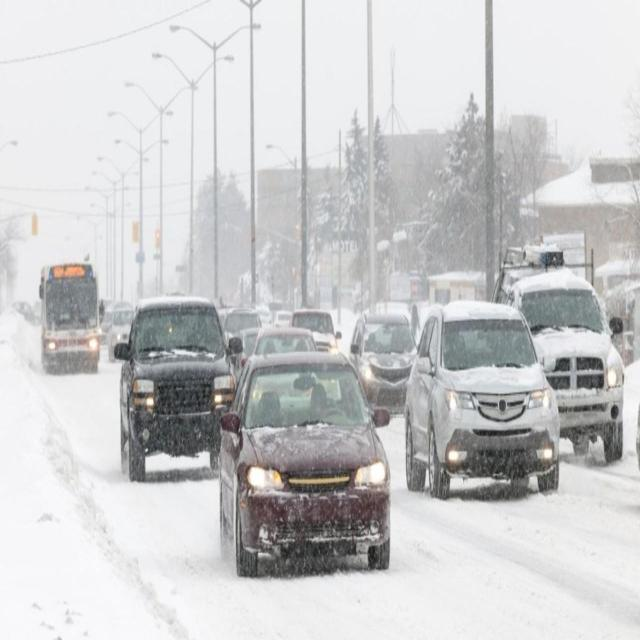Bus: (34, 234, 103, 391)
Car: (218, 317, 392, 577), (404, 265, 569, 508), (503, 215, 636, 476), (110, 298, 241, 508), (352, 278, 417, 415)
